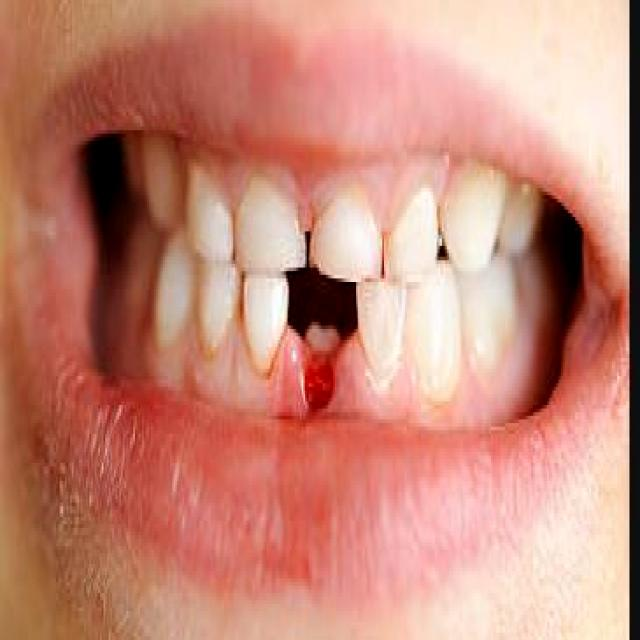hypodontia: (288, 268, 358, 409)
